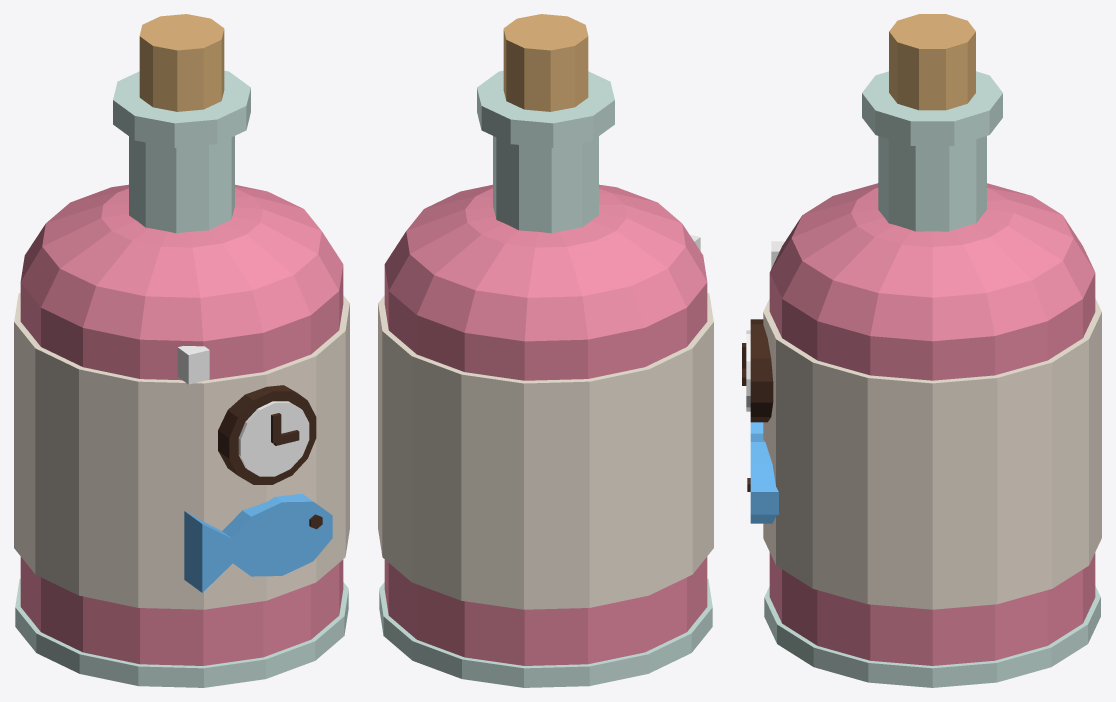
File: CatCafe_Prop_Potion_QuickBait.glb
3 views of the same model, side by side, from view 1: azimuth 30°, elevation 25°; view 2: azimuth 150°, elevation 25°; view 3: azimuth 270°, elevation 25° (orthographic).
Parts seen in each view (by area): view 1: CatCafe_Prop_Potion_QuickBait; view 2: CatCafe_Prop_Potion_QuickBait; view 3: CatCafe_Prop_Potion_QuickBait.
Boxes of the visible parts, bbox=[...] form: CatCafe_Prop_Potion_QuickBait: bbox=[14, 14, 349, 687]; CatCafe_Prop_Potion_QuickBait: bbox=[378, 14, 713, 687]; CatCafe_Prop_Potion_QuickBait: bbox=[742, 14, 1101, 687].
Size of the model in its own units: 0.624 by 1.19 by 0.663.
1 material, 1 textured.
